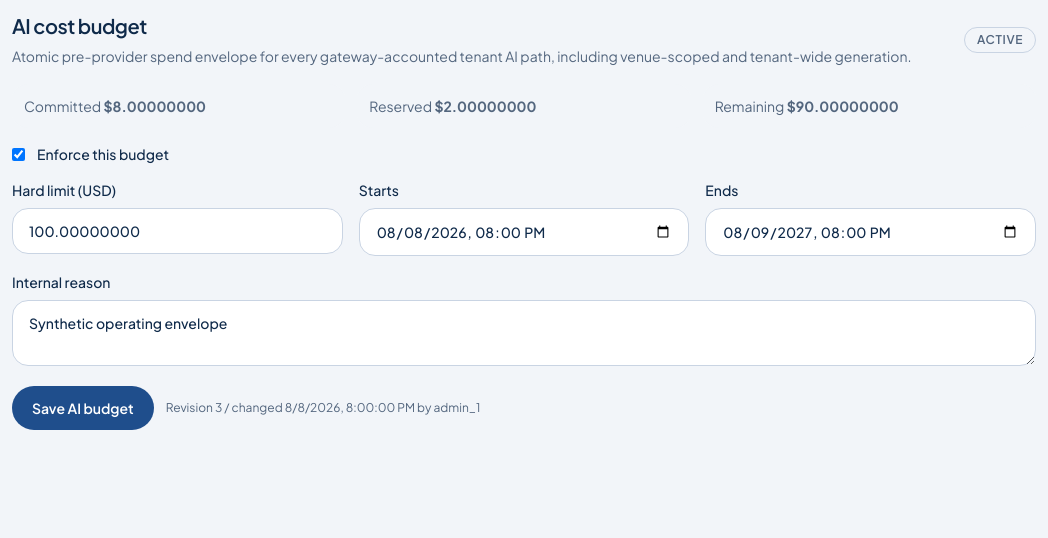
AdminAiCostBudgetForm › distinguishes structured mutation conflicts from generic outcomes: could not be confirmed
Step 1. Click the button "Save AI budget" → {"x": 83, "y": 408}, box [12,386,154,430]
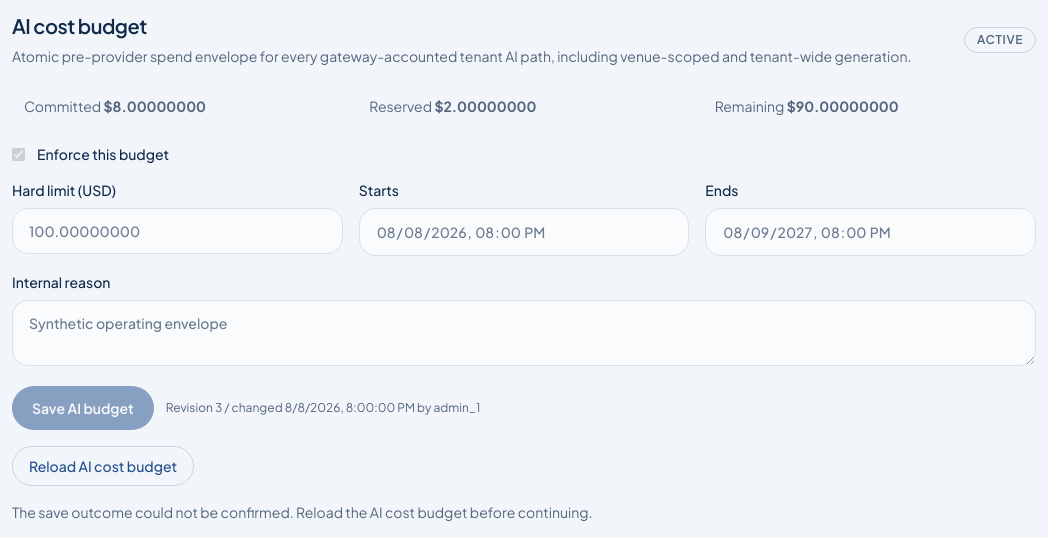
Check: the message shows "could not be confirmed", box [12,503,592,521]
Check: the button "Reload AI cost budget" is shown, box [12,446,194,486]
